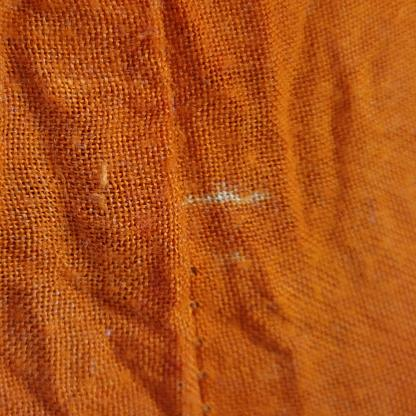spot: (179, 180, 288, 216)
